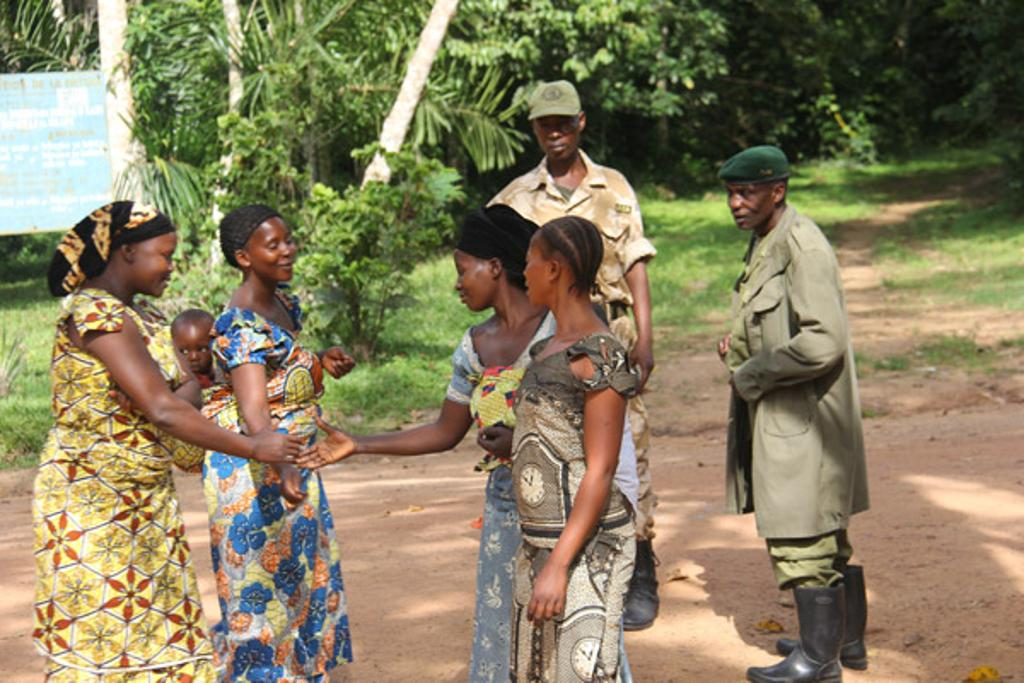face: (131, 235, 173, 297), (533, 106, 579, 160), (728, 175, 773, 230), (253, 223, 293, 280), (453, 255, 491, 309), (175, 332, 213, 372), (525, 246, 551, 300)
